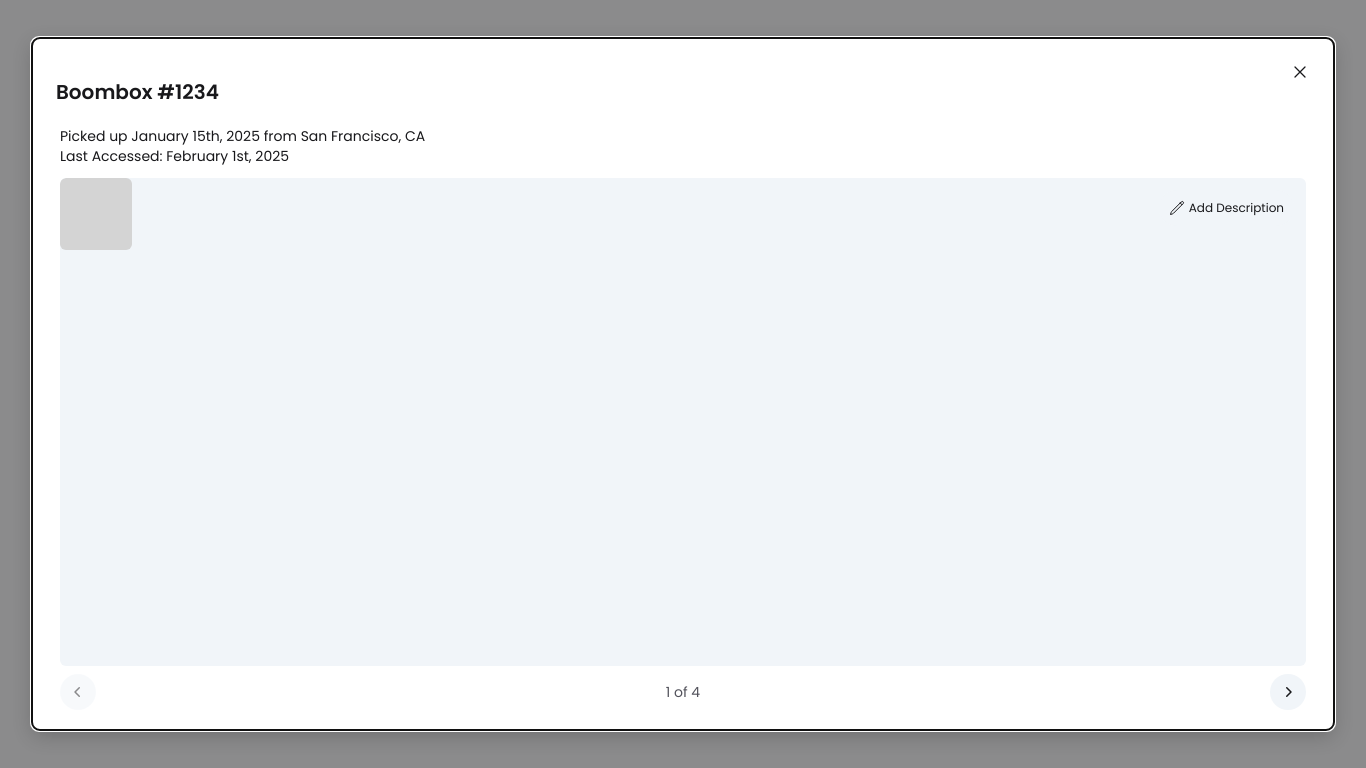
StorageUnitPopup › Image Navigation › navigates to previous image when previous button is clicked
Click the button named "Next image": [1288, 692] box [1270, 674, 1306, 710]
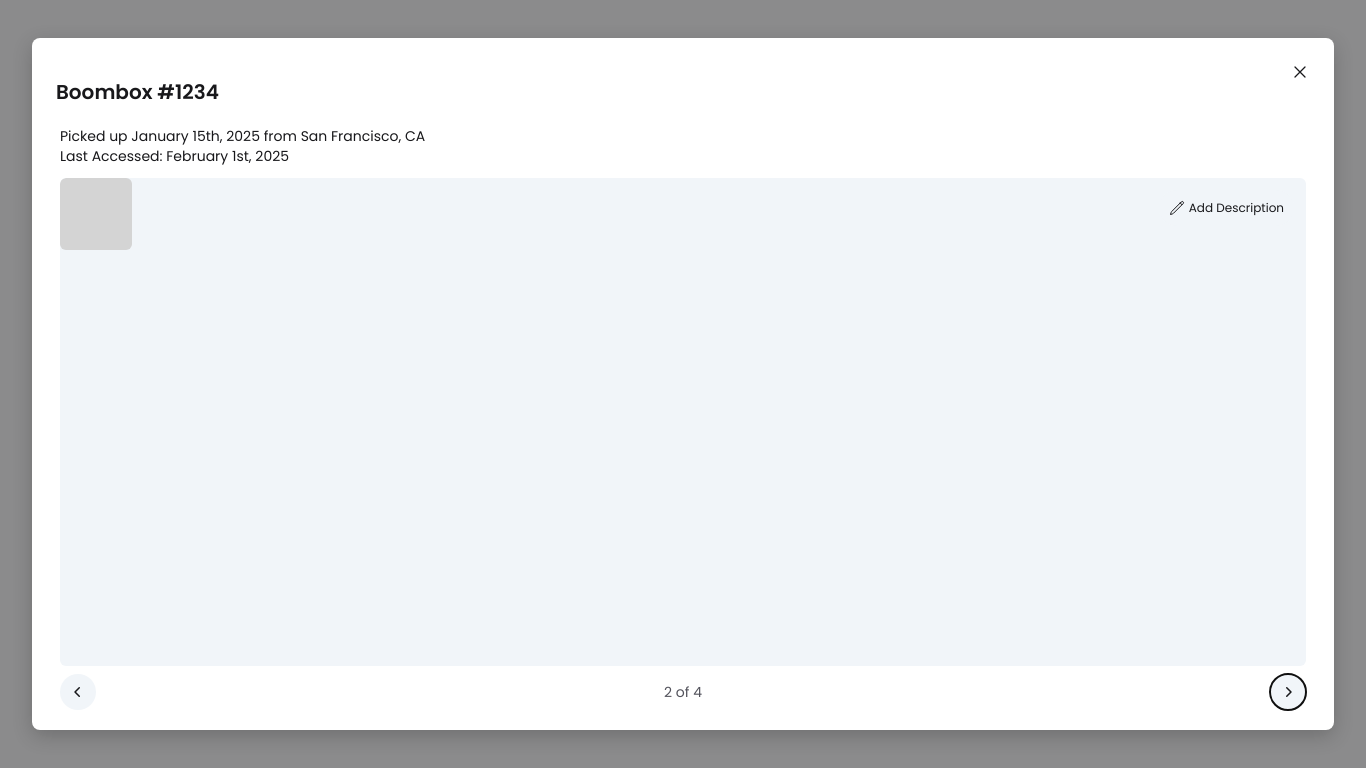
Click the button named "Previous image": [78, 692] box [60, 674, 96, 710]
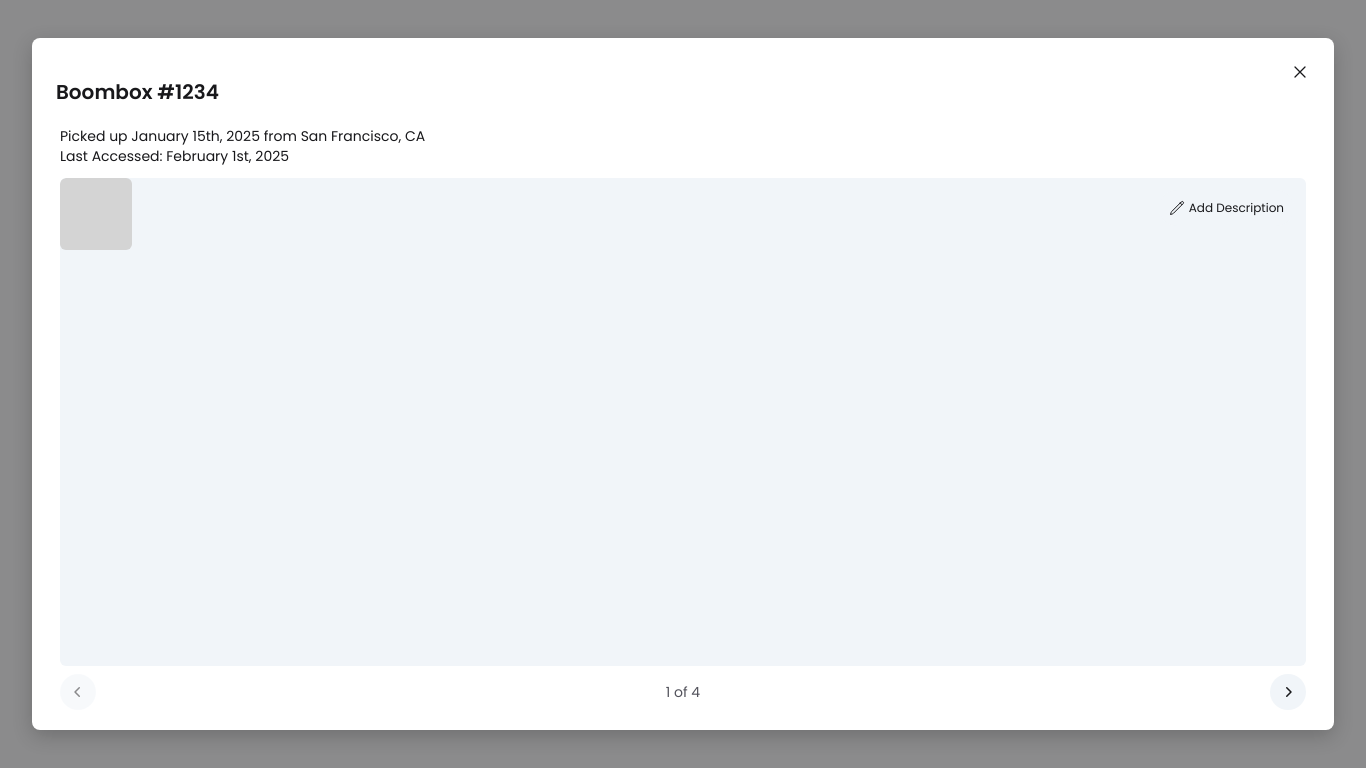
Now the text "1 of 4" is shown, box [666, 682, 700, 702]
